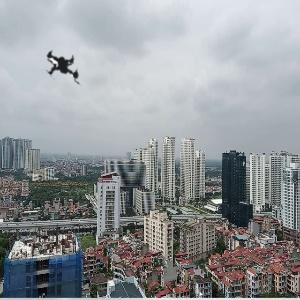drone: (2, 24, 114, 136)
